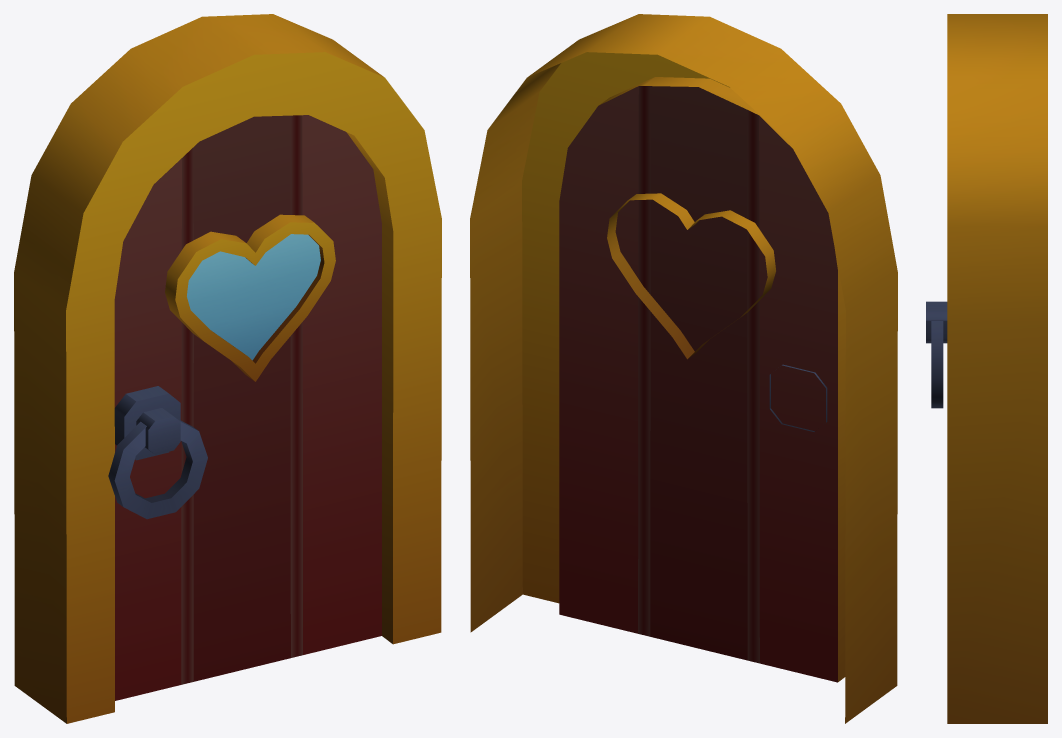
File: Door_02B.fbx
3 renders of one model, left to right at view 1: azimuth 30°, elevation 25°; view 2: azimuth 150°, elevation 25°; view 3: azimuth 270°, elevation 25°, orthographic. The views are drawn at different scales.
Visible parts, largest first — view 1: Door_02B; view 2: Door_02B; view 3: Door_02B.
Boxes of the visible parts, x1,y1,x2,y2 form: Door_02B: [14, 14, 441, 723]; Door_02B: [470, 14, 897, 723]; Door_02B: [926, 14, 1047, 723].
Bounding box in the file's own units: 156 × 247 × 45.35.
Materials: 3 (3 with a texture image).
